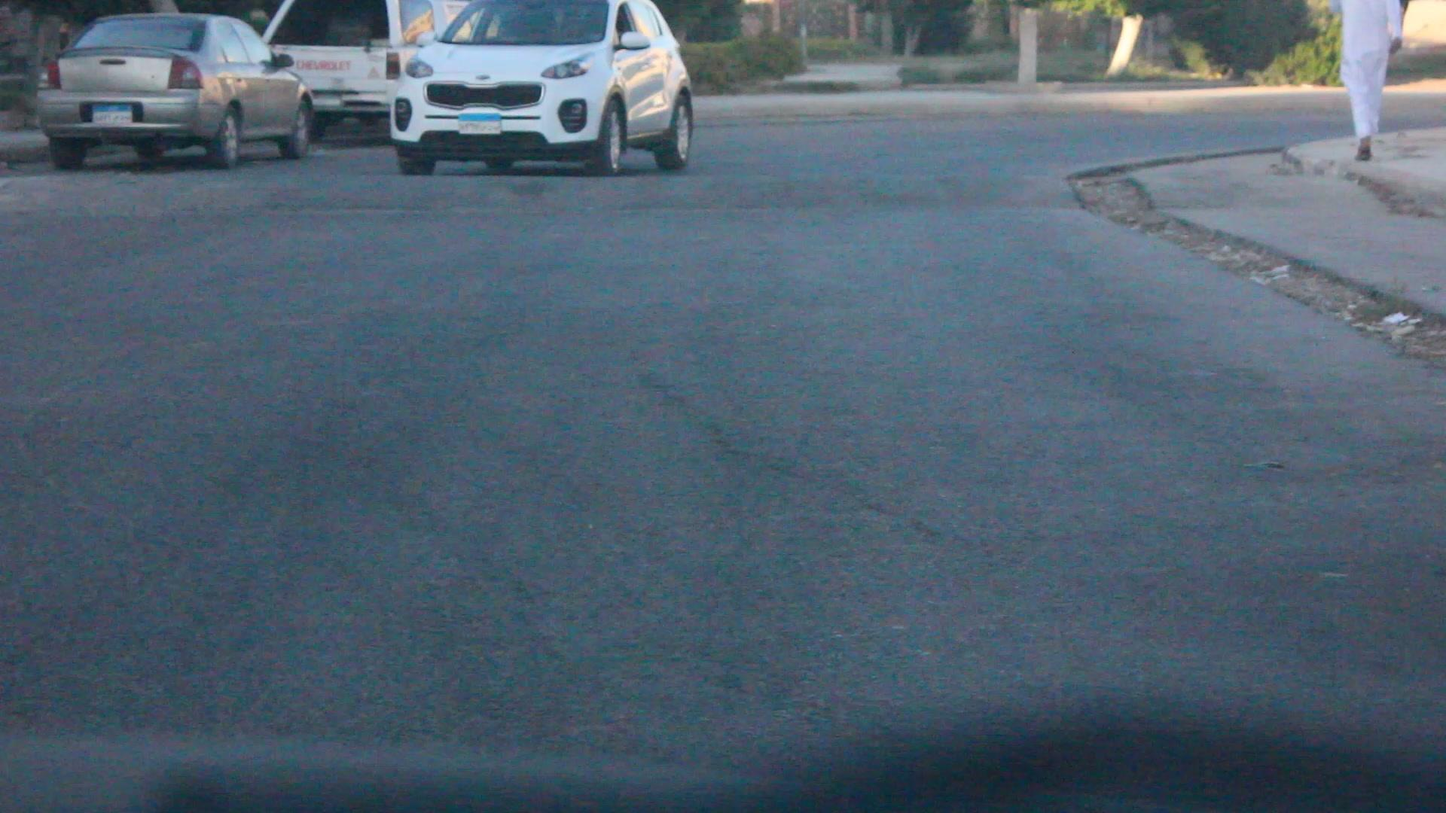Bump: (19, 166, 1149, 211)
